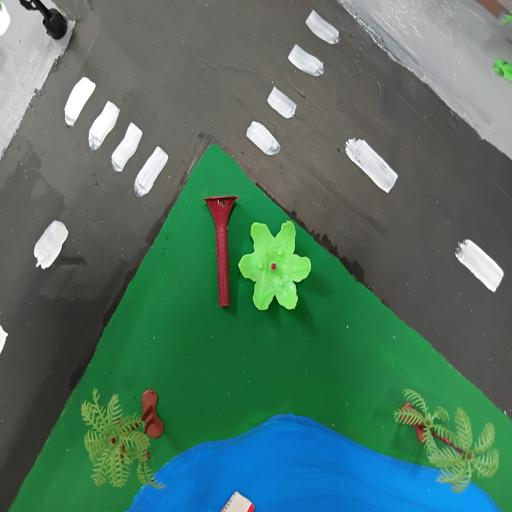fallen trees: (198, 174, 318, 348)
